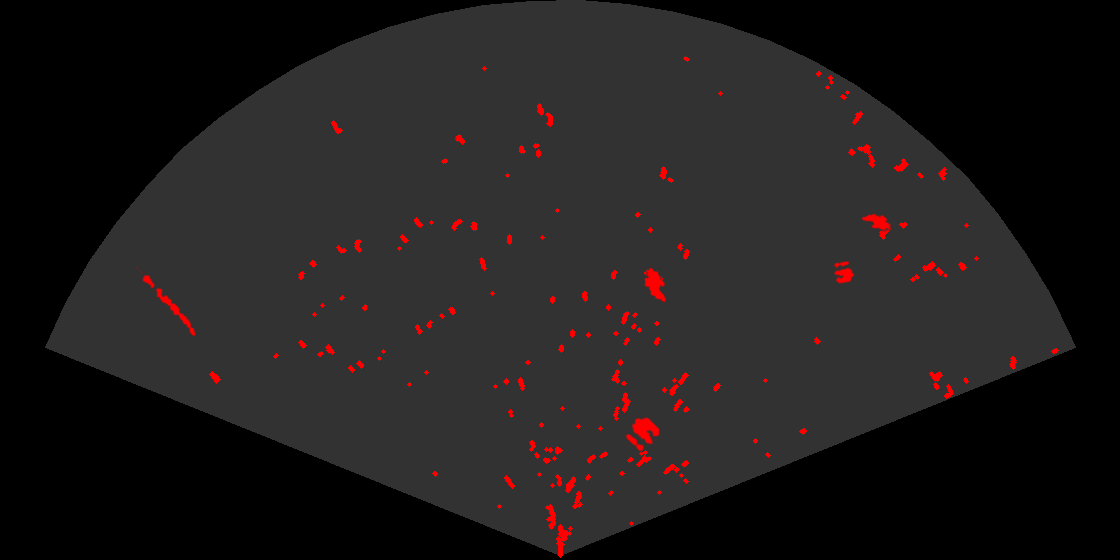AUV: (643, 266, 668, 304), (860, 211, 892, 232)
ball: (624, 416, 661, 453), (832, 259, 856, 285)
chain: (136, 265, 197, 338)
